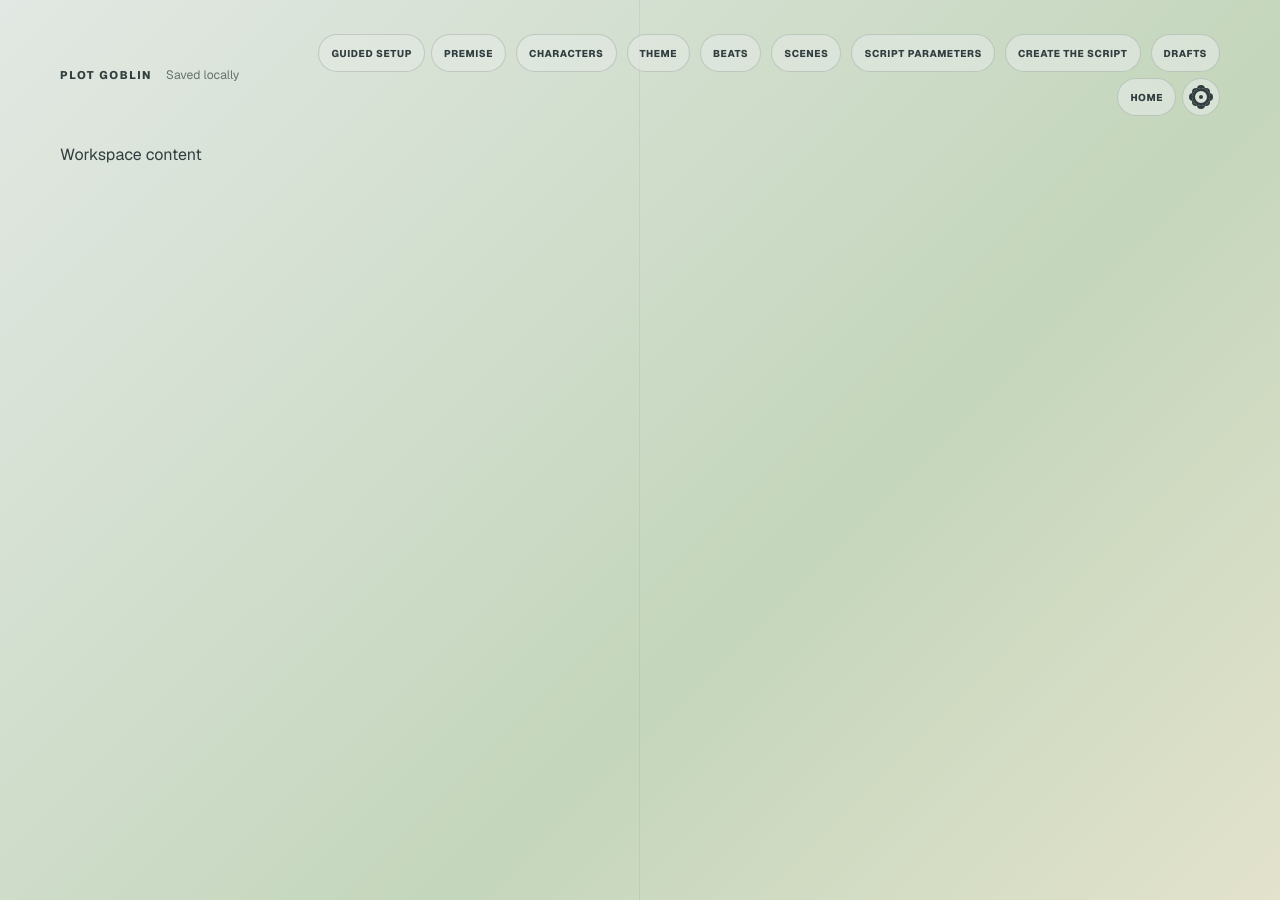
Scenario: WorkspaceShell › shows bridge key failure on the settings save button
Click the button named "Settings" at (1201, 97), box [1182, 78, 1220, 116]
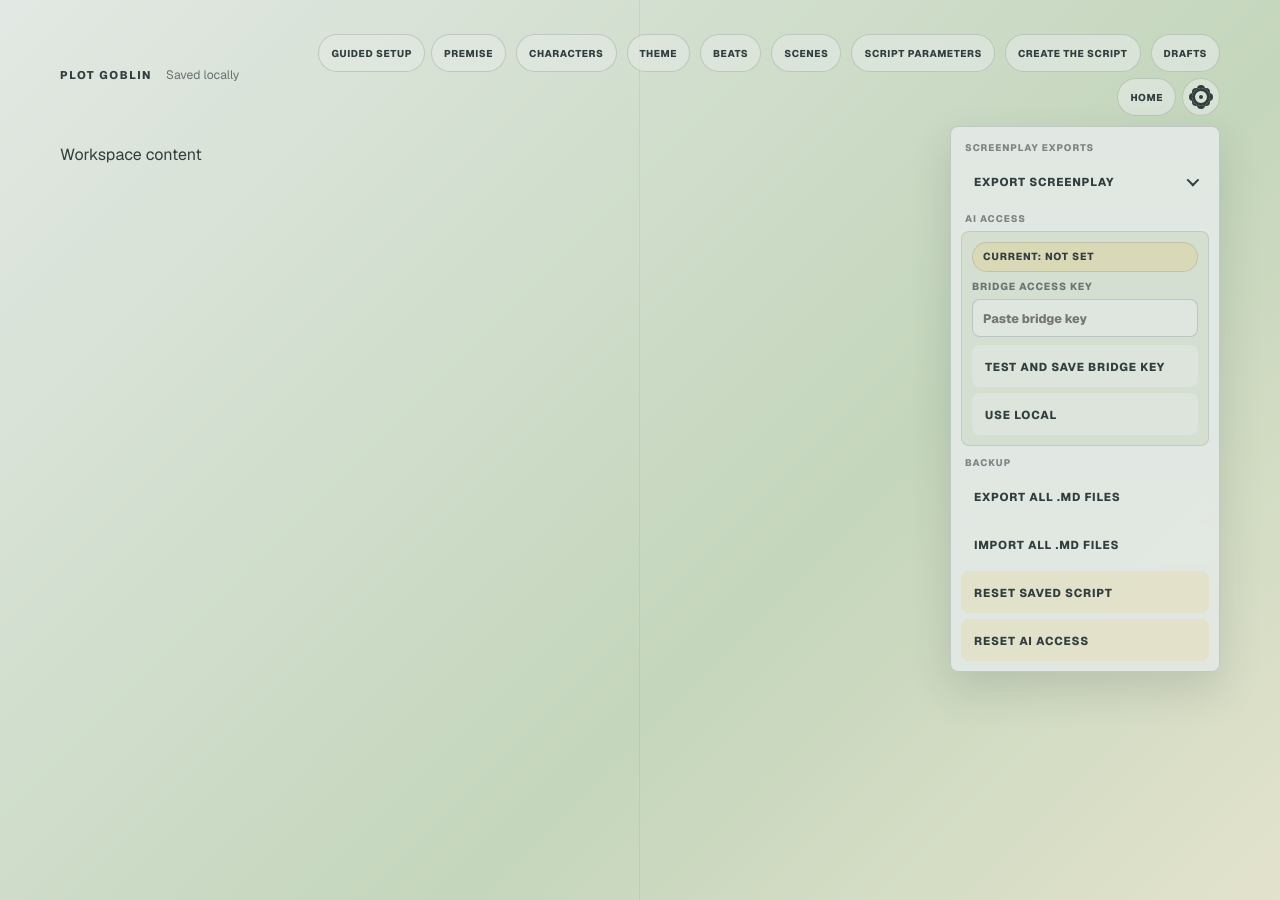
Type "wrong-key" into the password field labelled "Bridge access key" at (1085, 318), box [972, 299, 1198, 337]
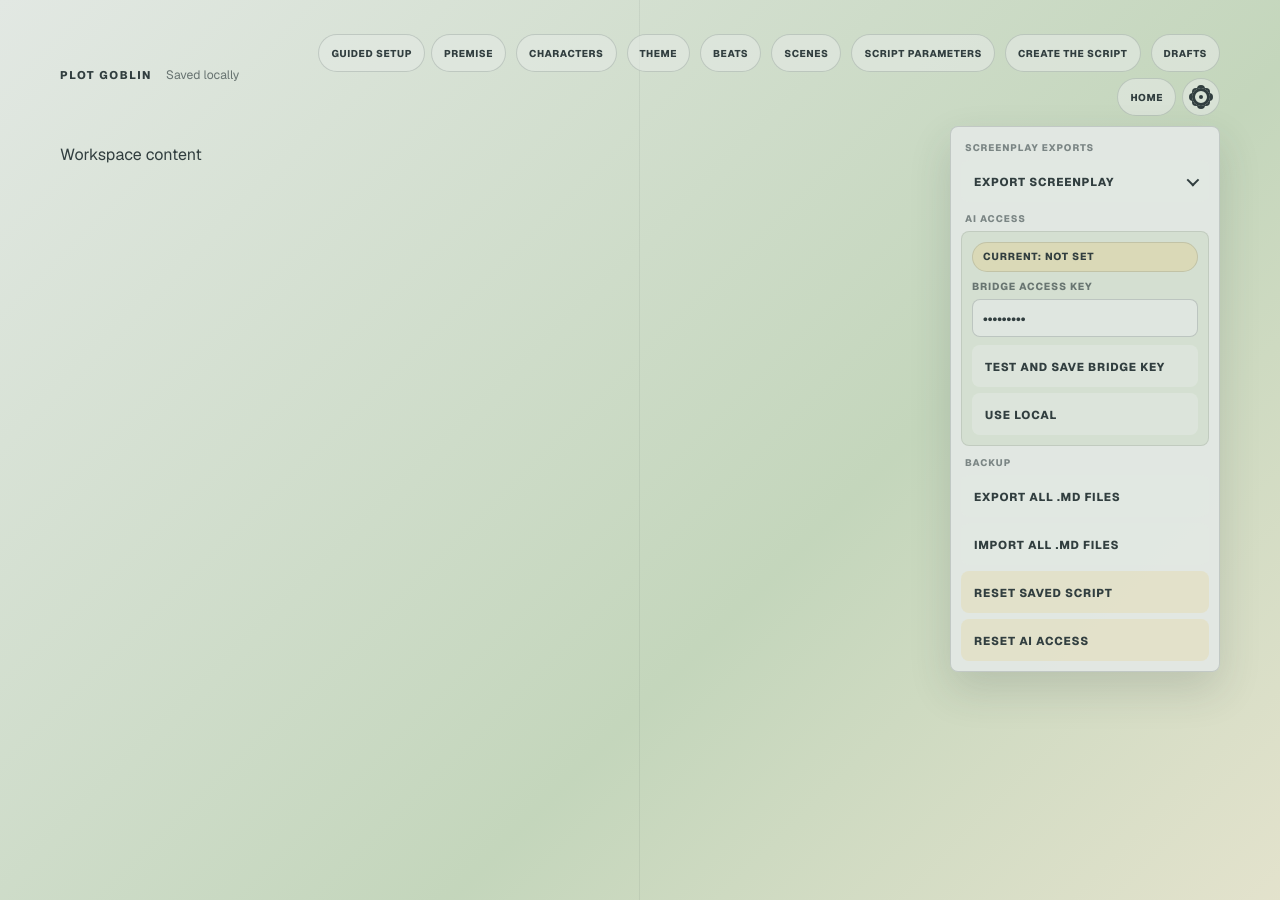
Click the button "Test and save bridge key" at (1085, 366), box [972, 345, 1198, 387]
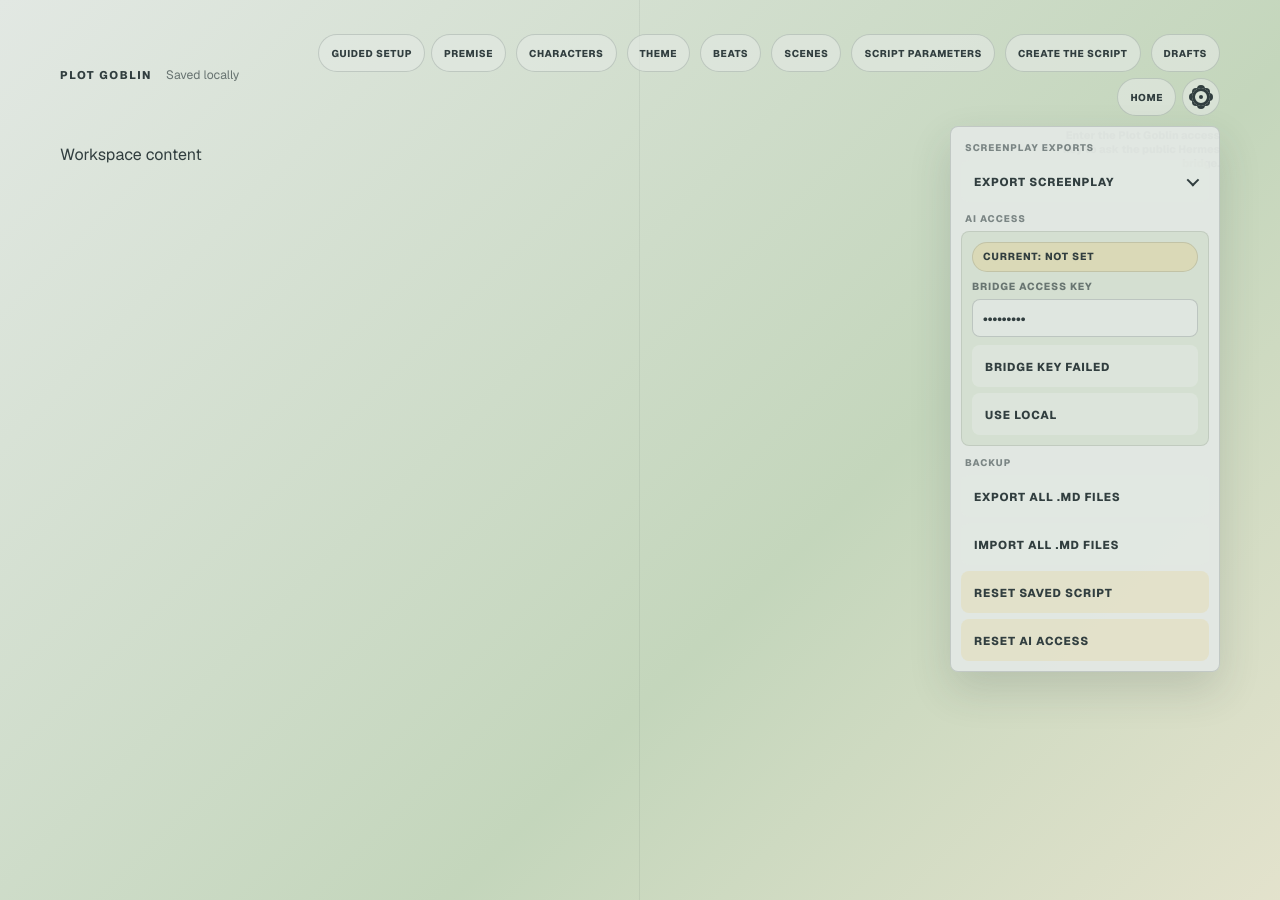
Expected: the text "Enter the Plot Goblin access key to ask the public Hermes bridge." is shown, [1050, 128, 1220, 170]
Now the button "Bridge key failed" is shown, box [972, 345, 1198, 387]
